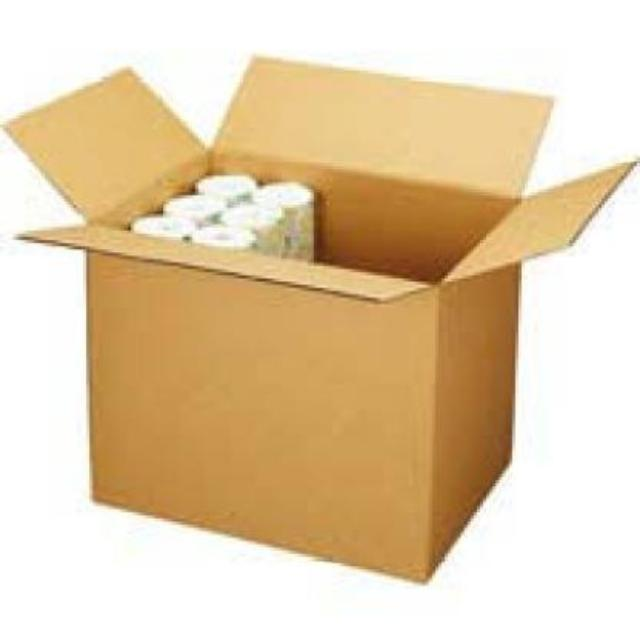cardboard_box: (2, 64, 634, 580)
